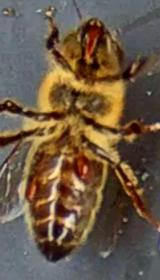varroa_mite: (63, 142, 106, 190), (16, 172, 50, 203)
